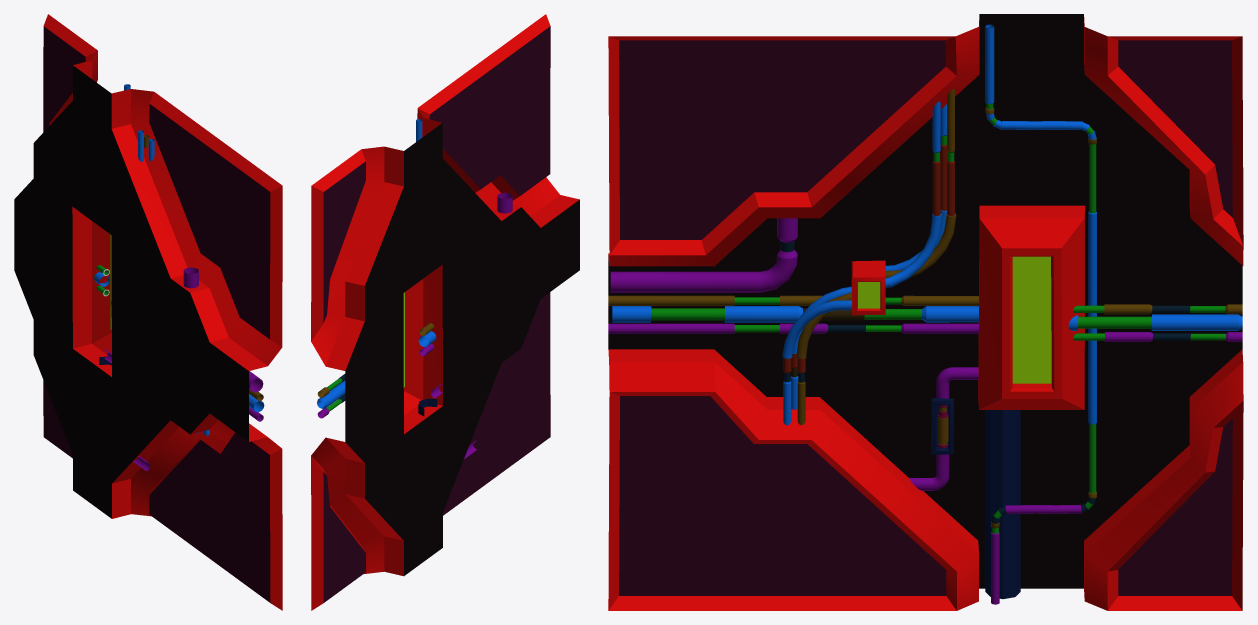
Rendered from OBJ_4_Mur 1.fbx.
3 renders of one model, left to right at view 1: azimuth 30°, elevation 25°; view 2: azimuth 150°, elevation 25°; view 3: azimuth 270°, elevation 25°, orthographic. The views are drawn at different scales.
Visible parts, largest first — view 1: OBJ_4_Mur; view 2: OBJ_4_Mur; view 3: OBJ_4_Mur.
Boxes of the visible parts, box(x1,y1,x2,y2) form: OBJ_4_Mur: box(14, 14, 282, 610); OBJ_4_Mur: box(311, 14, 579, 610); OBJ_4_Mur: box(608, 14, 1243, 610).
Size of the model in its own units: 117 by 1203 by 1202.
